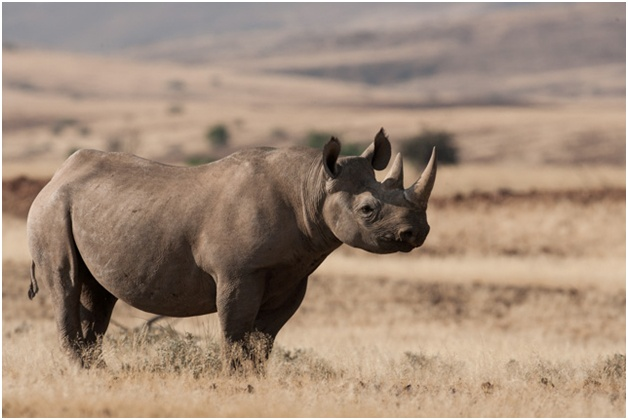rhino: (23, 126, 439, 375)
